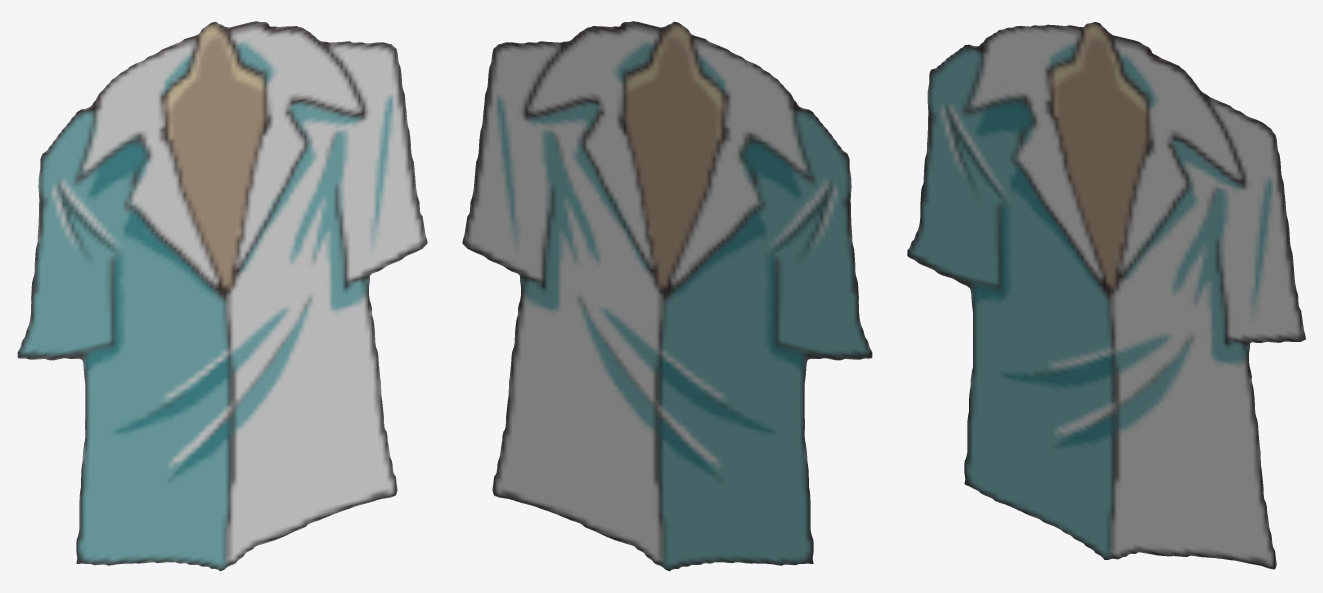
File: giftgoods012.fbx
The picture shows the model from 3 angles, left to right: view 1: azimuth 30°, elevation 25°; view 2: azimuth 150°, elevation 25°; view 3: azimuth 330°, elevation 25°; orthographic projection. The views are drawn at different scales.
Parts seen in each view (by area): view 1: giftgoods012; view 2: giftgoods012; view 3: giftgoods012.
Part boxes in pixels (box(x1,y1,x2,y2)): giftgoods012: box(17, 21, 427, 571); giftgoods012: box(462, 21, 872, 571); giftgoods012: box(907, 22, 1305, 569).
Bounding box in the file's own units: 0.6976 × 0.9049 × 0.
